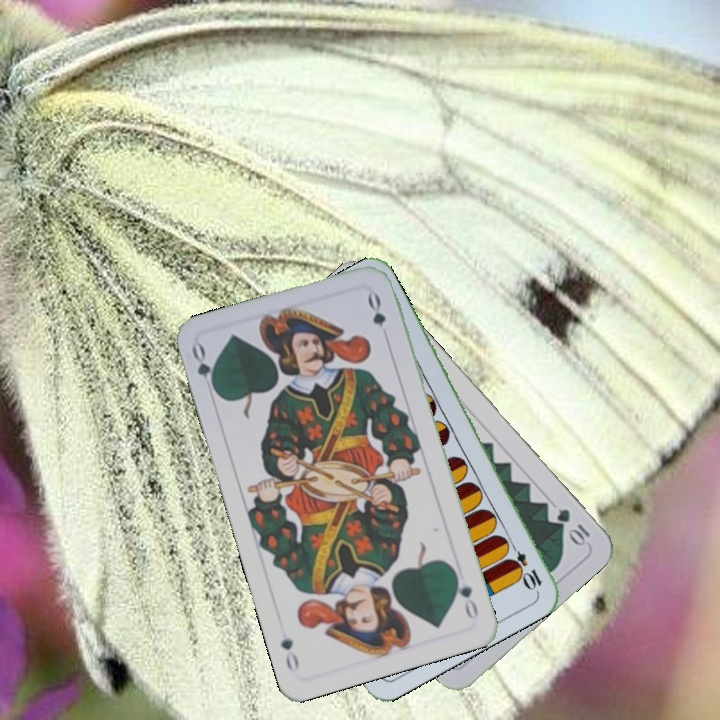E10: (504, 537, 545, 593)
G10: (552, 504, 593, 549)
GO: (187, 340, 221, 399), (450, 566, 481, 623)
